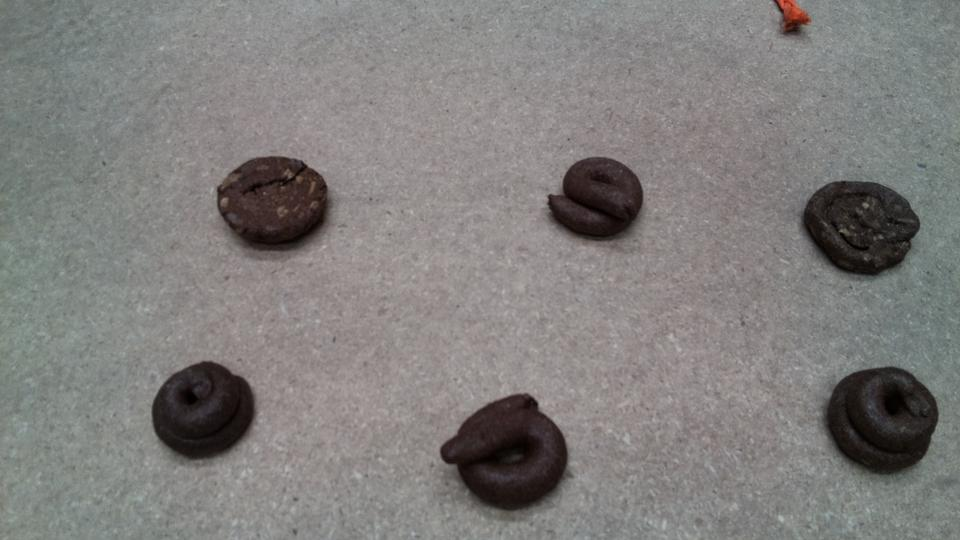poop: (437, 390, 570, 514), (824, 362, 943, 477), (799, 175, 923, 278), (213, 154, 333, 252), (149, 355, 255, 463), (543, 154, 647, 245)
rope: (772, 1, 813, 38)
